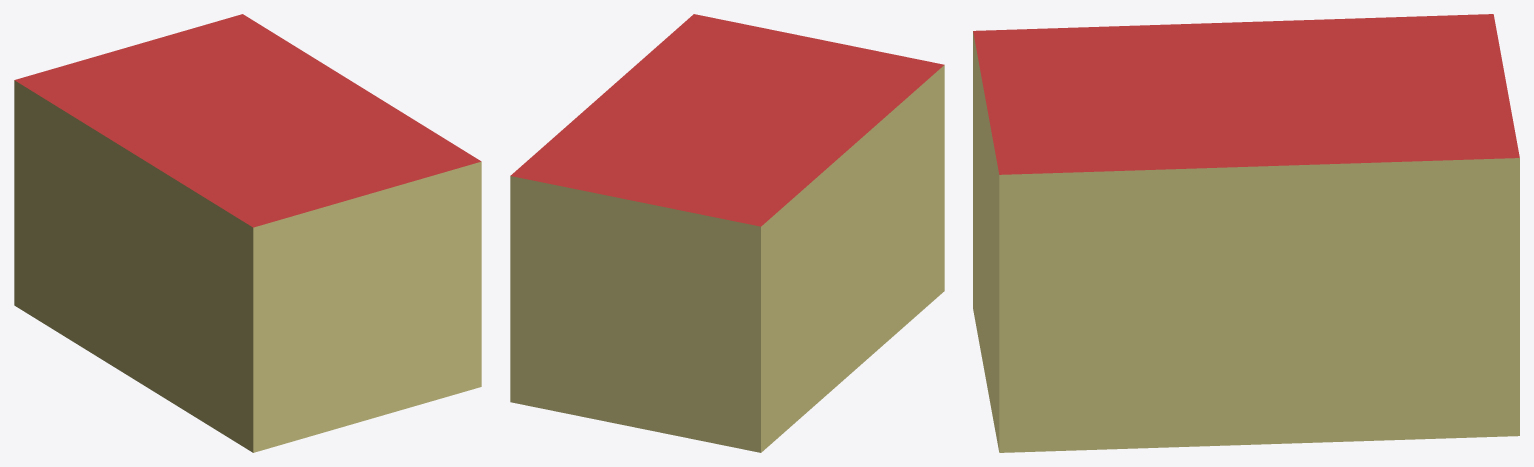
3 views of the same model, side by side, from view 1: azimuth 30°, elevation 25°; view 2: azimuth 150°, elevation 25°; view 3: azimuth 270°, elevation 25° (orthographic). The views are drawn at different scales.
Bounding box in the file's own units: 6.57 × 9.43 × 5.29.
